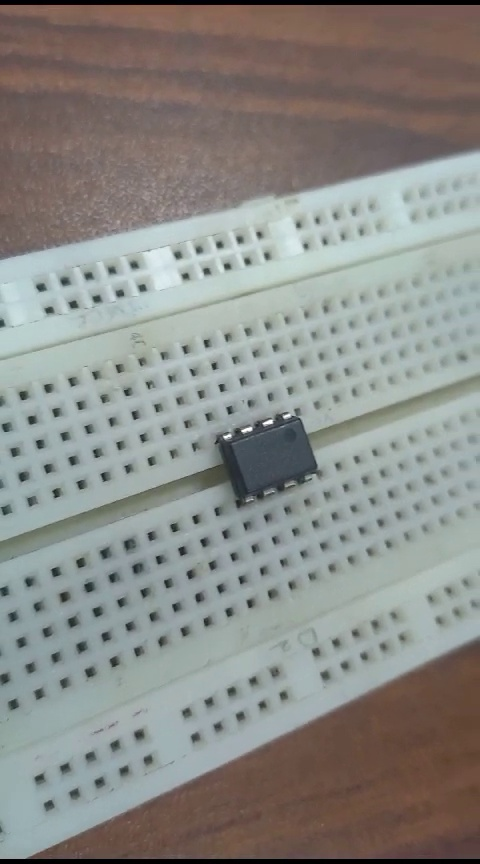IC: (211, 405, 327, 508)
